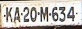character: (40, 5, 49, 22), (66, 6, 75, 21), (13, 6, 21, 22), (51, 5, 59, 21), (58, 6, 66, 22), (5, 6, 13, 21), (23, 6, 30, 22), (30, 6, 37, 22)
